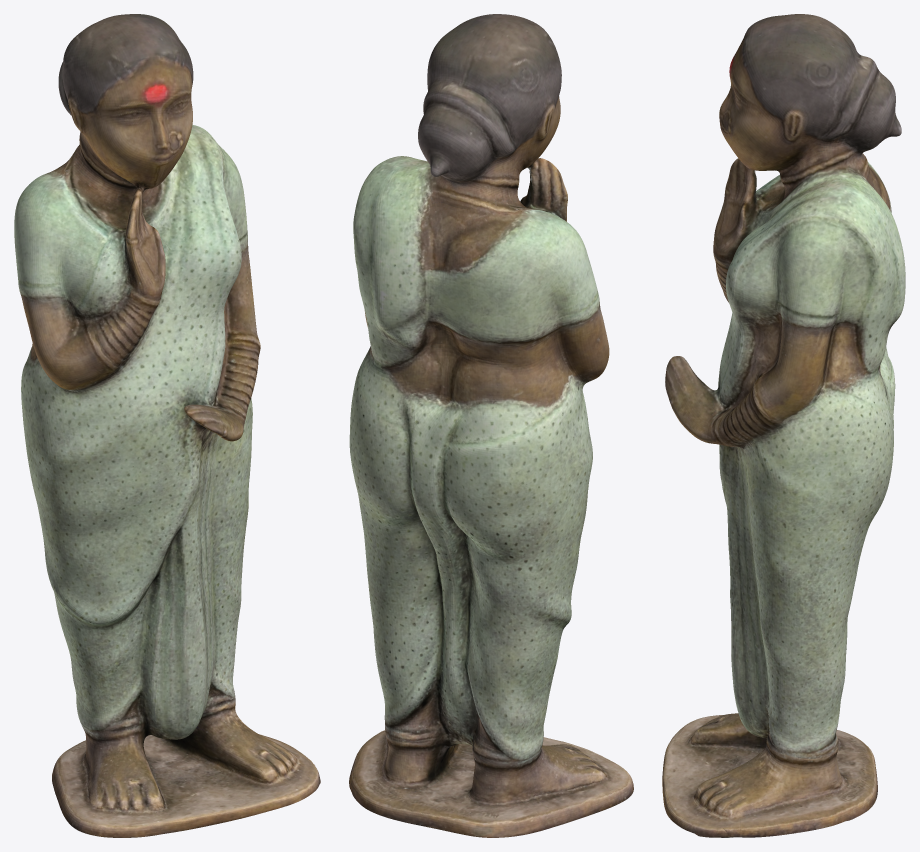
The model's file is female-with-green-saree.glb.
The picture shows the model from 3 angles, left to right: view 1: azimuth 30°, elevation 25°; view 2: azimuth 150°, elevation 25°; view 3: azimuth 270°, elevation 25°; orthographic projection. The views are drawn at different scales.
Parts seen in each view (by area): view 1: 03 - Female with green Saree2_edITED; view 2: 03 - Female with green Saree2_edITED; view 3: 03 - Female with green Saree2_edITED.
Boxes of the visible parts, x1=… form: 03 - Female with green Saree2_edITED: x1=14, y1=14, x2=320, y2=837; 03 - Female with green Saree2_edITED: x1=349, y1=14, x2=633, y2=837; 03 - Female with green Saree2_edITED: x1=662, y1=14, x2=905, y2=837.
Bounding box in the file's own units: 18.93 × 55.1 × 16.22.
1 material, 1 textured.
